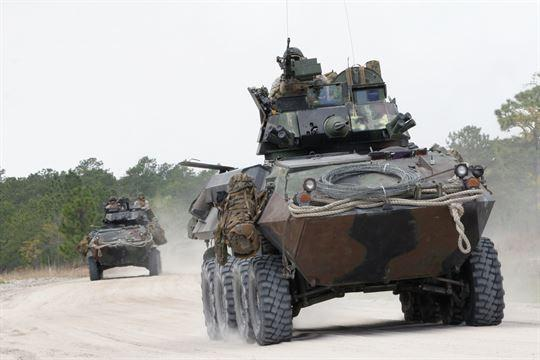MIL_IFV: (187, 45, 508, 345)
